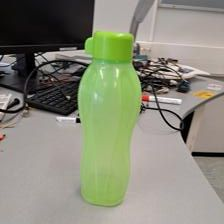bottle: (75, 31, 140, 206)
